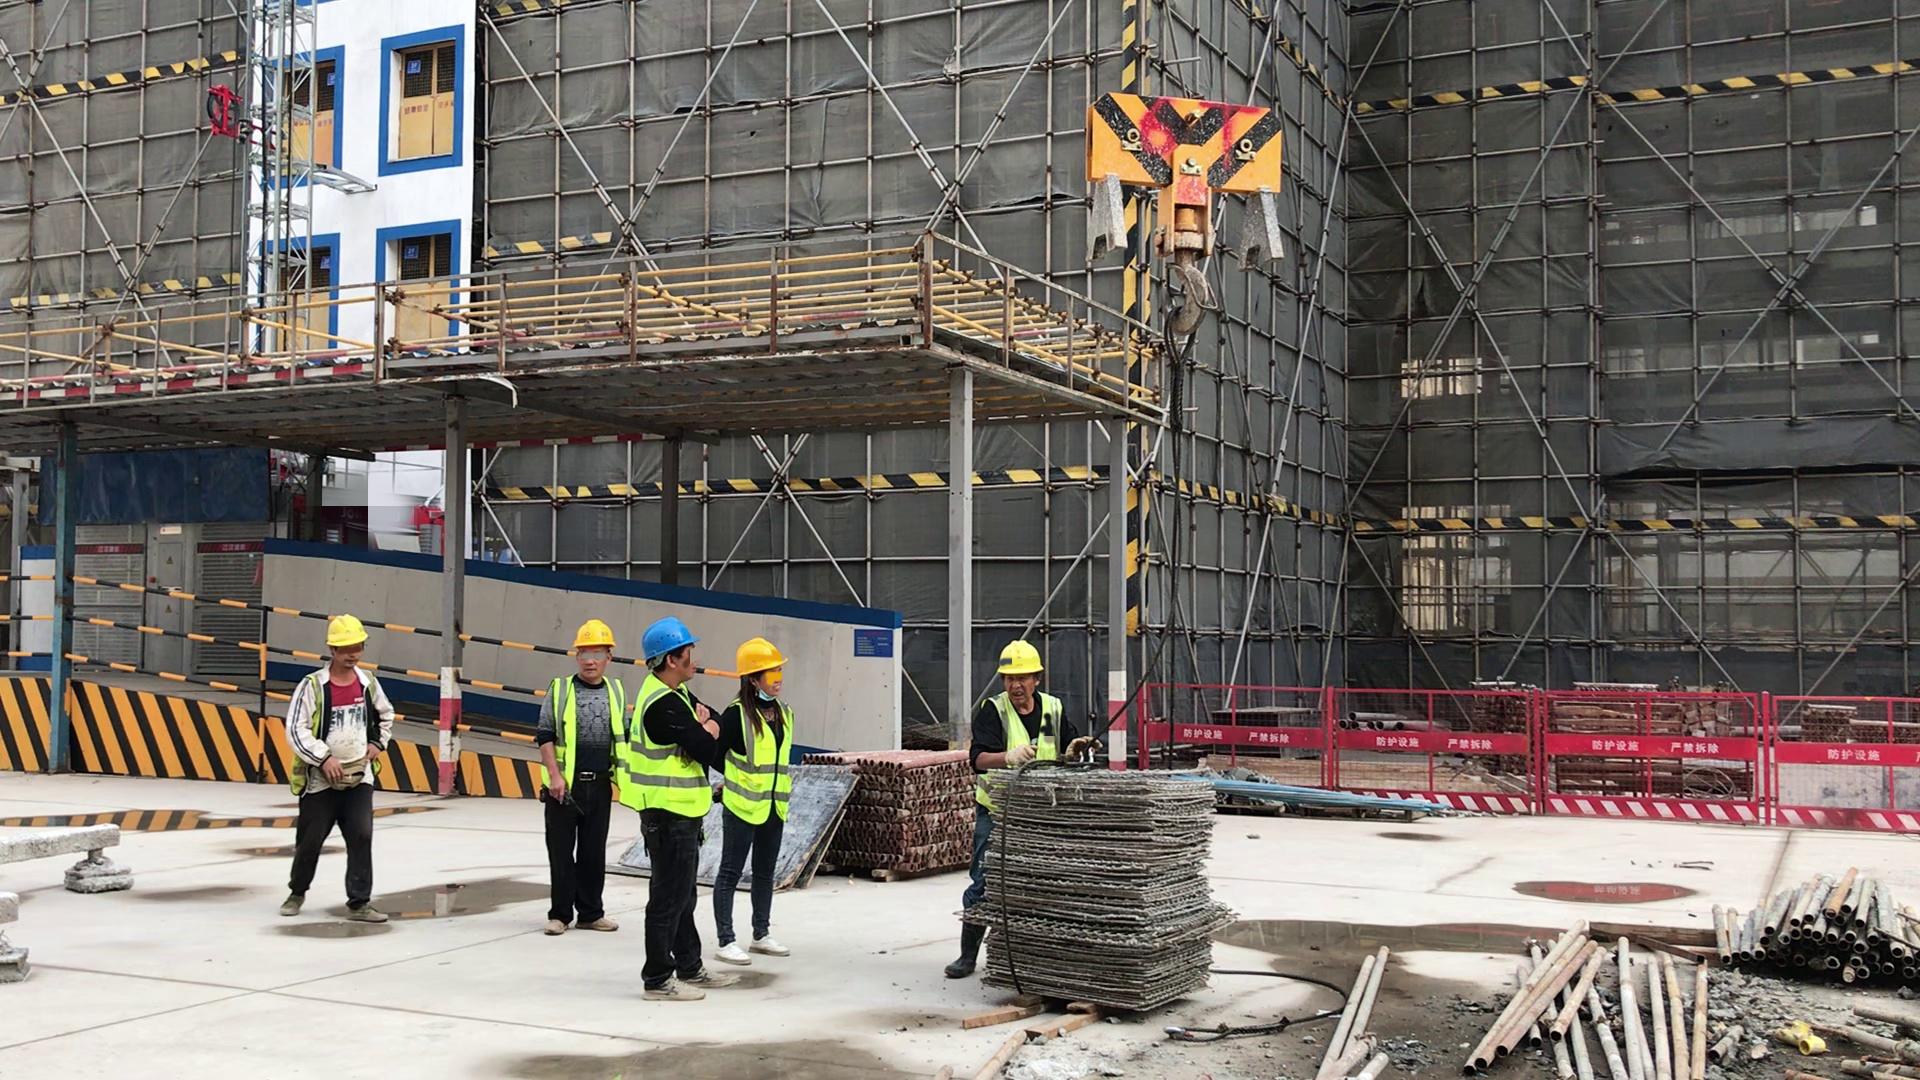fence: (1147, 656, 1920, 842), (38, 553, 647, 780)
helmet: (632, 612, 698, 658), (319, 612, 381, 655), (992, 637, 1056, 677), (574, 616, 625, 664), (729, 643, 788, 677)
hook: (1073, 75, 1300, 279)
person: (633, 620, 735, 1014), (285, 606, 399, 923), (721, 640, 803, 976), (540, 618, 625, 941), (975, 635, 1094, 773)
scaffold: (1491, 922, 1705, 1080), (811, 732, 982, 903), (1704, 871, 1920, 982)
vest: (535, 673, 633, 807), (632, 672, 708, 830), (299, 664, 388, 795), (726, 693, 800, 835), (972, 691, 1076, 790)
